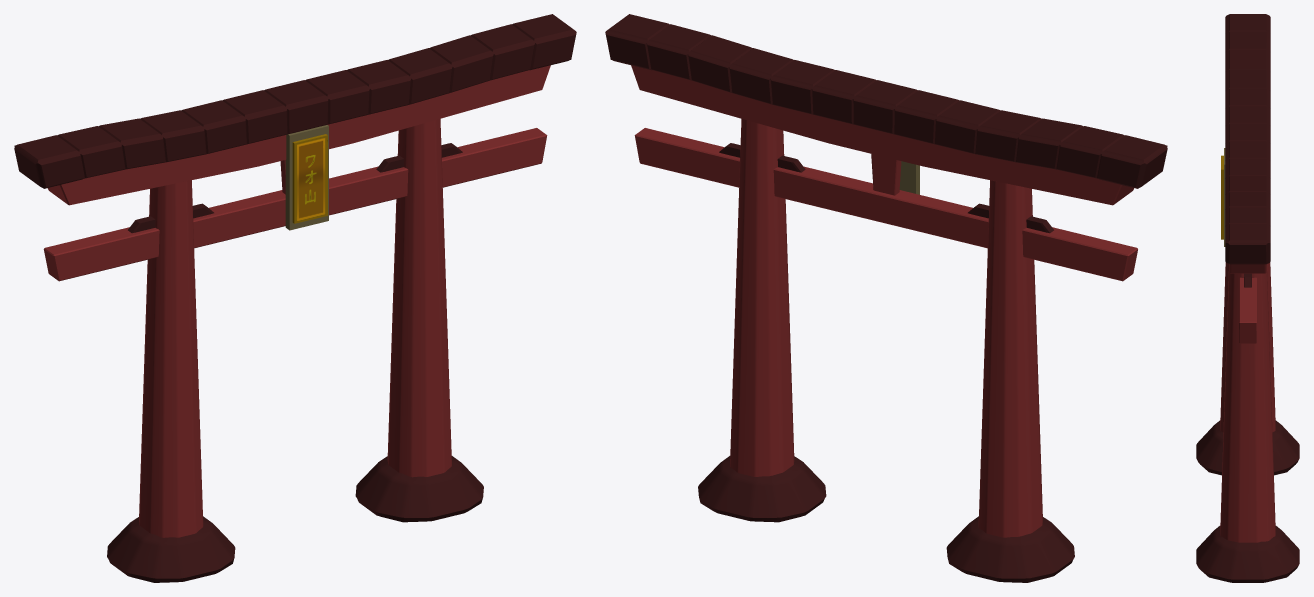
File: tori_gate.fbx
3 renders of one model, left to right at view 1: azimuth 30°, elevation 25°; view 2: azimuth 150°, elevation 25°; view 3: azimuth 270°, elevation 25°, orthographic. The views are drawn at different scales.
Parts seen in each view (by area): view 1: pasted__pCube59, pasted__pasted__pCube60; view 2: pasted__pCube59; view 3: pasted__pCube59, pasted__pasted__pCube60.
Part boxes in pixels (bbox=[...]): pasted__pCube59: bbox=[14, 14, 576, 582]; pasted__pasted__pCube60: bbox=[285, 125, 328, 230]; pasted__pCube59: bbox=[605, 14, 1167, 582]; pasted__pCube59: bbox=[1196, 14, 1299, 582]; pasted__pasted__pCube60: bbox=[1221, 148, 1225, 246].
Bounding box in the file's own units: 4.35 × 3.38 × 0.8326.
